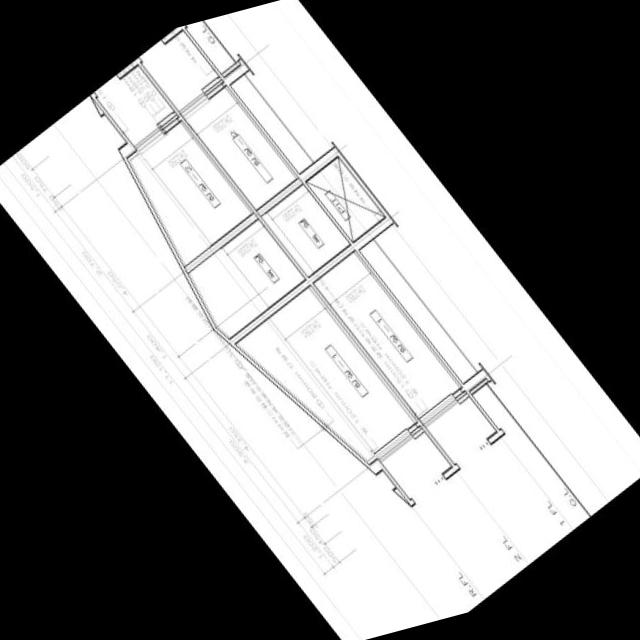background: (0, 0, 640, 640)
space_bedroom: (234, 284, 416, 463), (312, 249, 461, 417), (126, 119, 252, 265), (184, 84, 297, 208)
space_other: (305, 156, 384, 240)
space_toilet: (187, 217, 304, 337), (260, 182, 349, 275)
